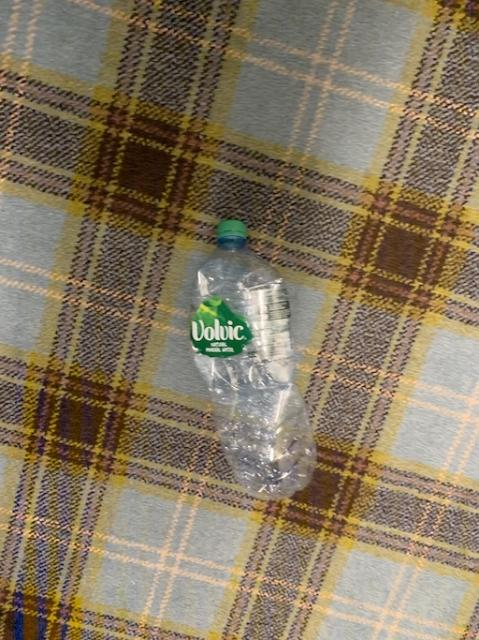plastic: (190, 219, 315, 498)
